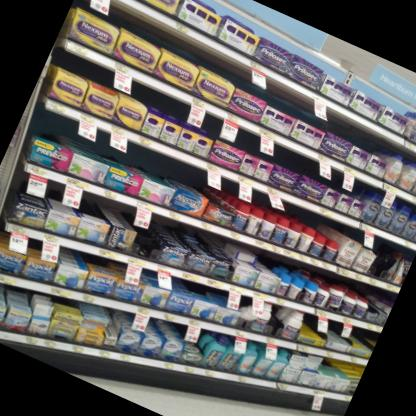empty_space: (131, 211, 168, 264), (366, 239, 407, 284)
